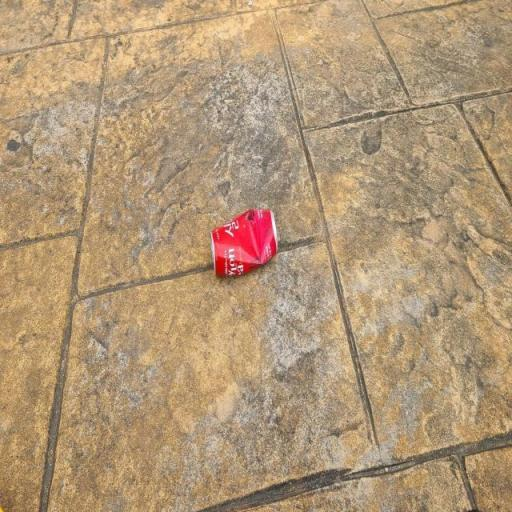metal: (203, 192, 285, 290)
